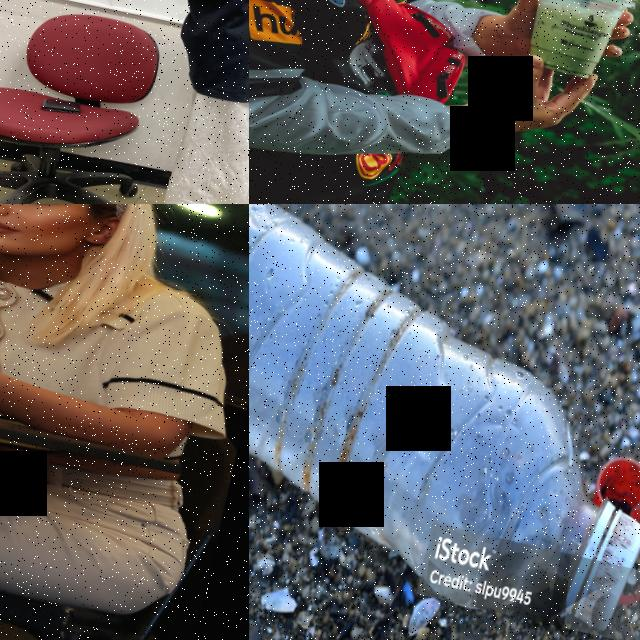cup: (514, 0, 636, 85)
